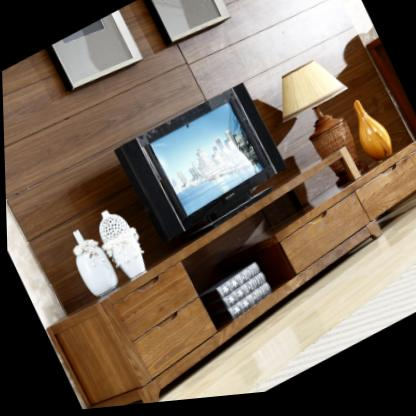Carpet: (245, 269, 416, 398)
Lamp: (266, 54, 374, 191)
TV stand: (26, 111, 416, 414)
Wall Panel: (0, 0, 398, 269)
